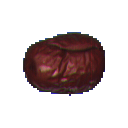ng: (18, 27, 111, 103)
